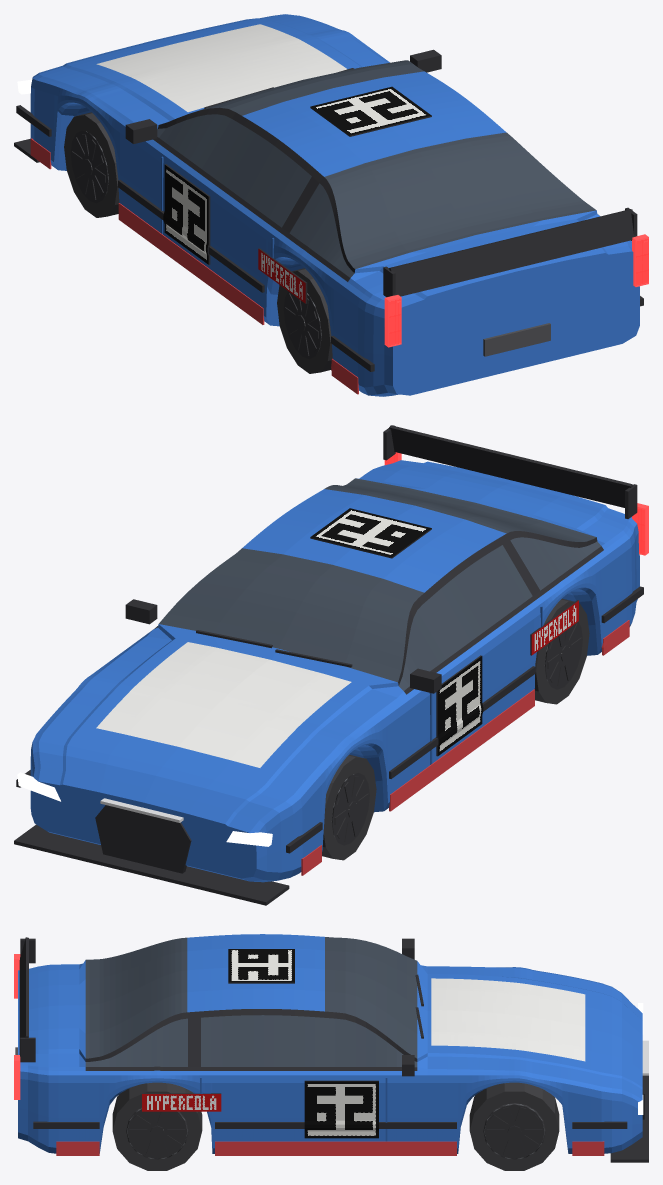
The model's file is cup_mustang.glb.
The picture shows the model from 3 angles, top to bottom: view 1: azimuth 30°, elevation 25°; view 2: azimuth 150°, elevation 25°; view 3: azimuth 270°, elevation 25°; orthographic projection. The views are drawn at different scales.
Parts seen in each view (by area): view 1: body.001, livery.001, wheel_FL.001, wheel_RL.001; view 2: body.001, livery.001, wheel_FL.001, wheel_RL.001; view 3: body.001, livery.001, wheel_FR.001, wheel_RR.001.
Boxes of the visible parts, box(x1,y1,x2,y2) form: body.001: box(14, 14, 648, 396); livery.001: box(30, 24, 431, 394); wheel_FL.001: box(64, 112, 119, 217); wheel_RL.001: box(277, 268, 332, 373); body.001: box(14, 425, 648, 905); livery.001: box(96, 508, 629, 875); wheel_FL.001: box(322, 754, 376, 860); wheel_RL.001: box(534, 598, 589, 704); body.001: box(14, 934, 648, 1162); livery.001: box(56, 949, 604, 1155); wheel_FR.001: box(469, 1082, 559, 1170); wheel_RR.001: box(112, 1082, 202, 1170).
Bounding box in the file's own units: 2.33 × 1.31 × 4.96.
15 materials, 4 textured.
